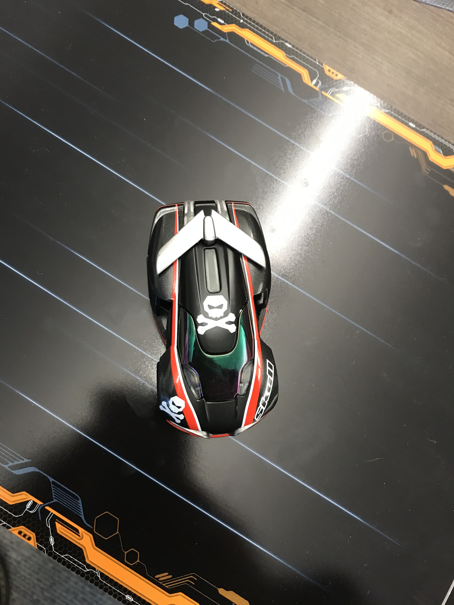Skull: (147, 198, 281, 440)
